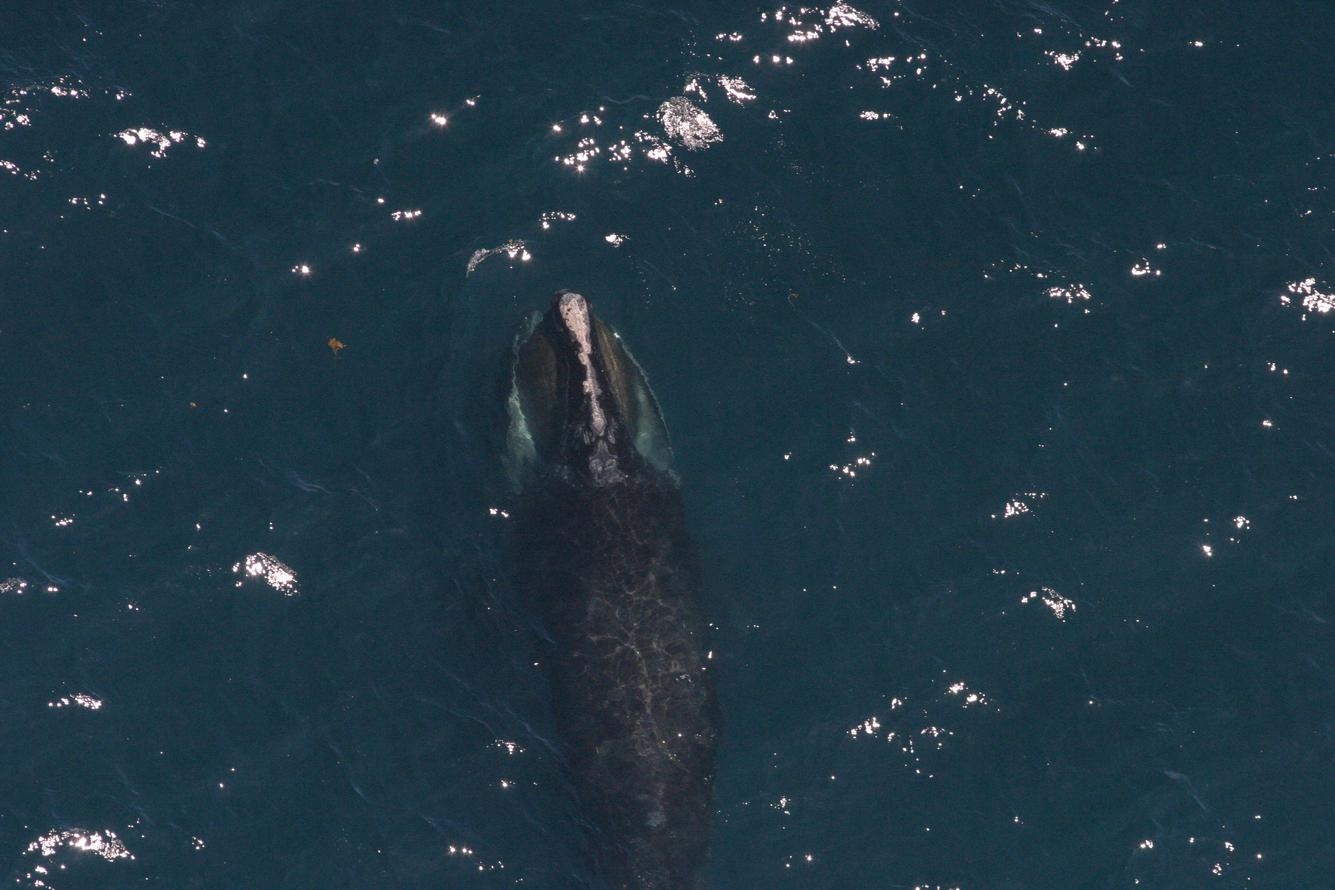whale: (446, 279, 783, 890)
